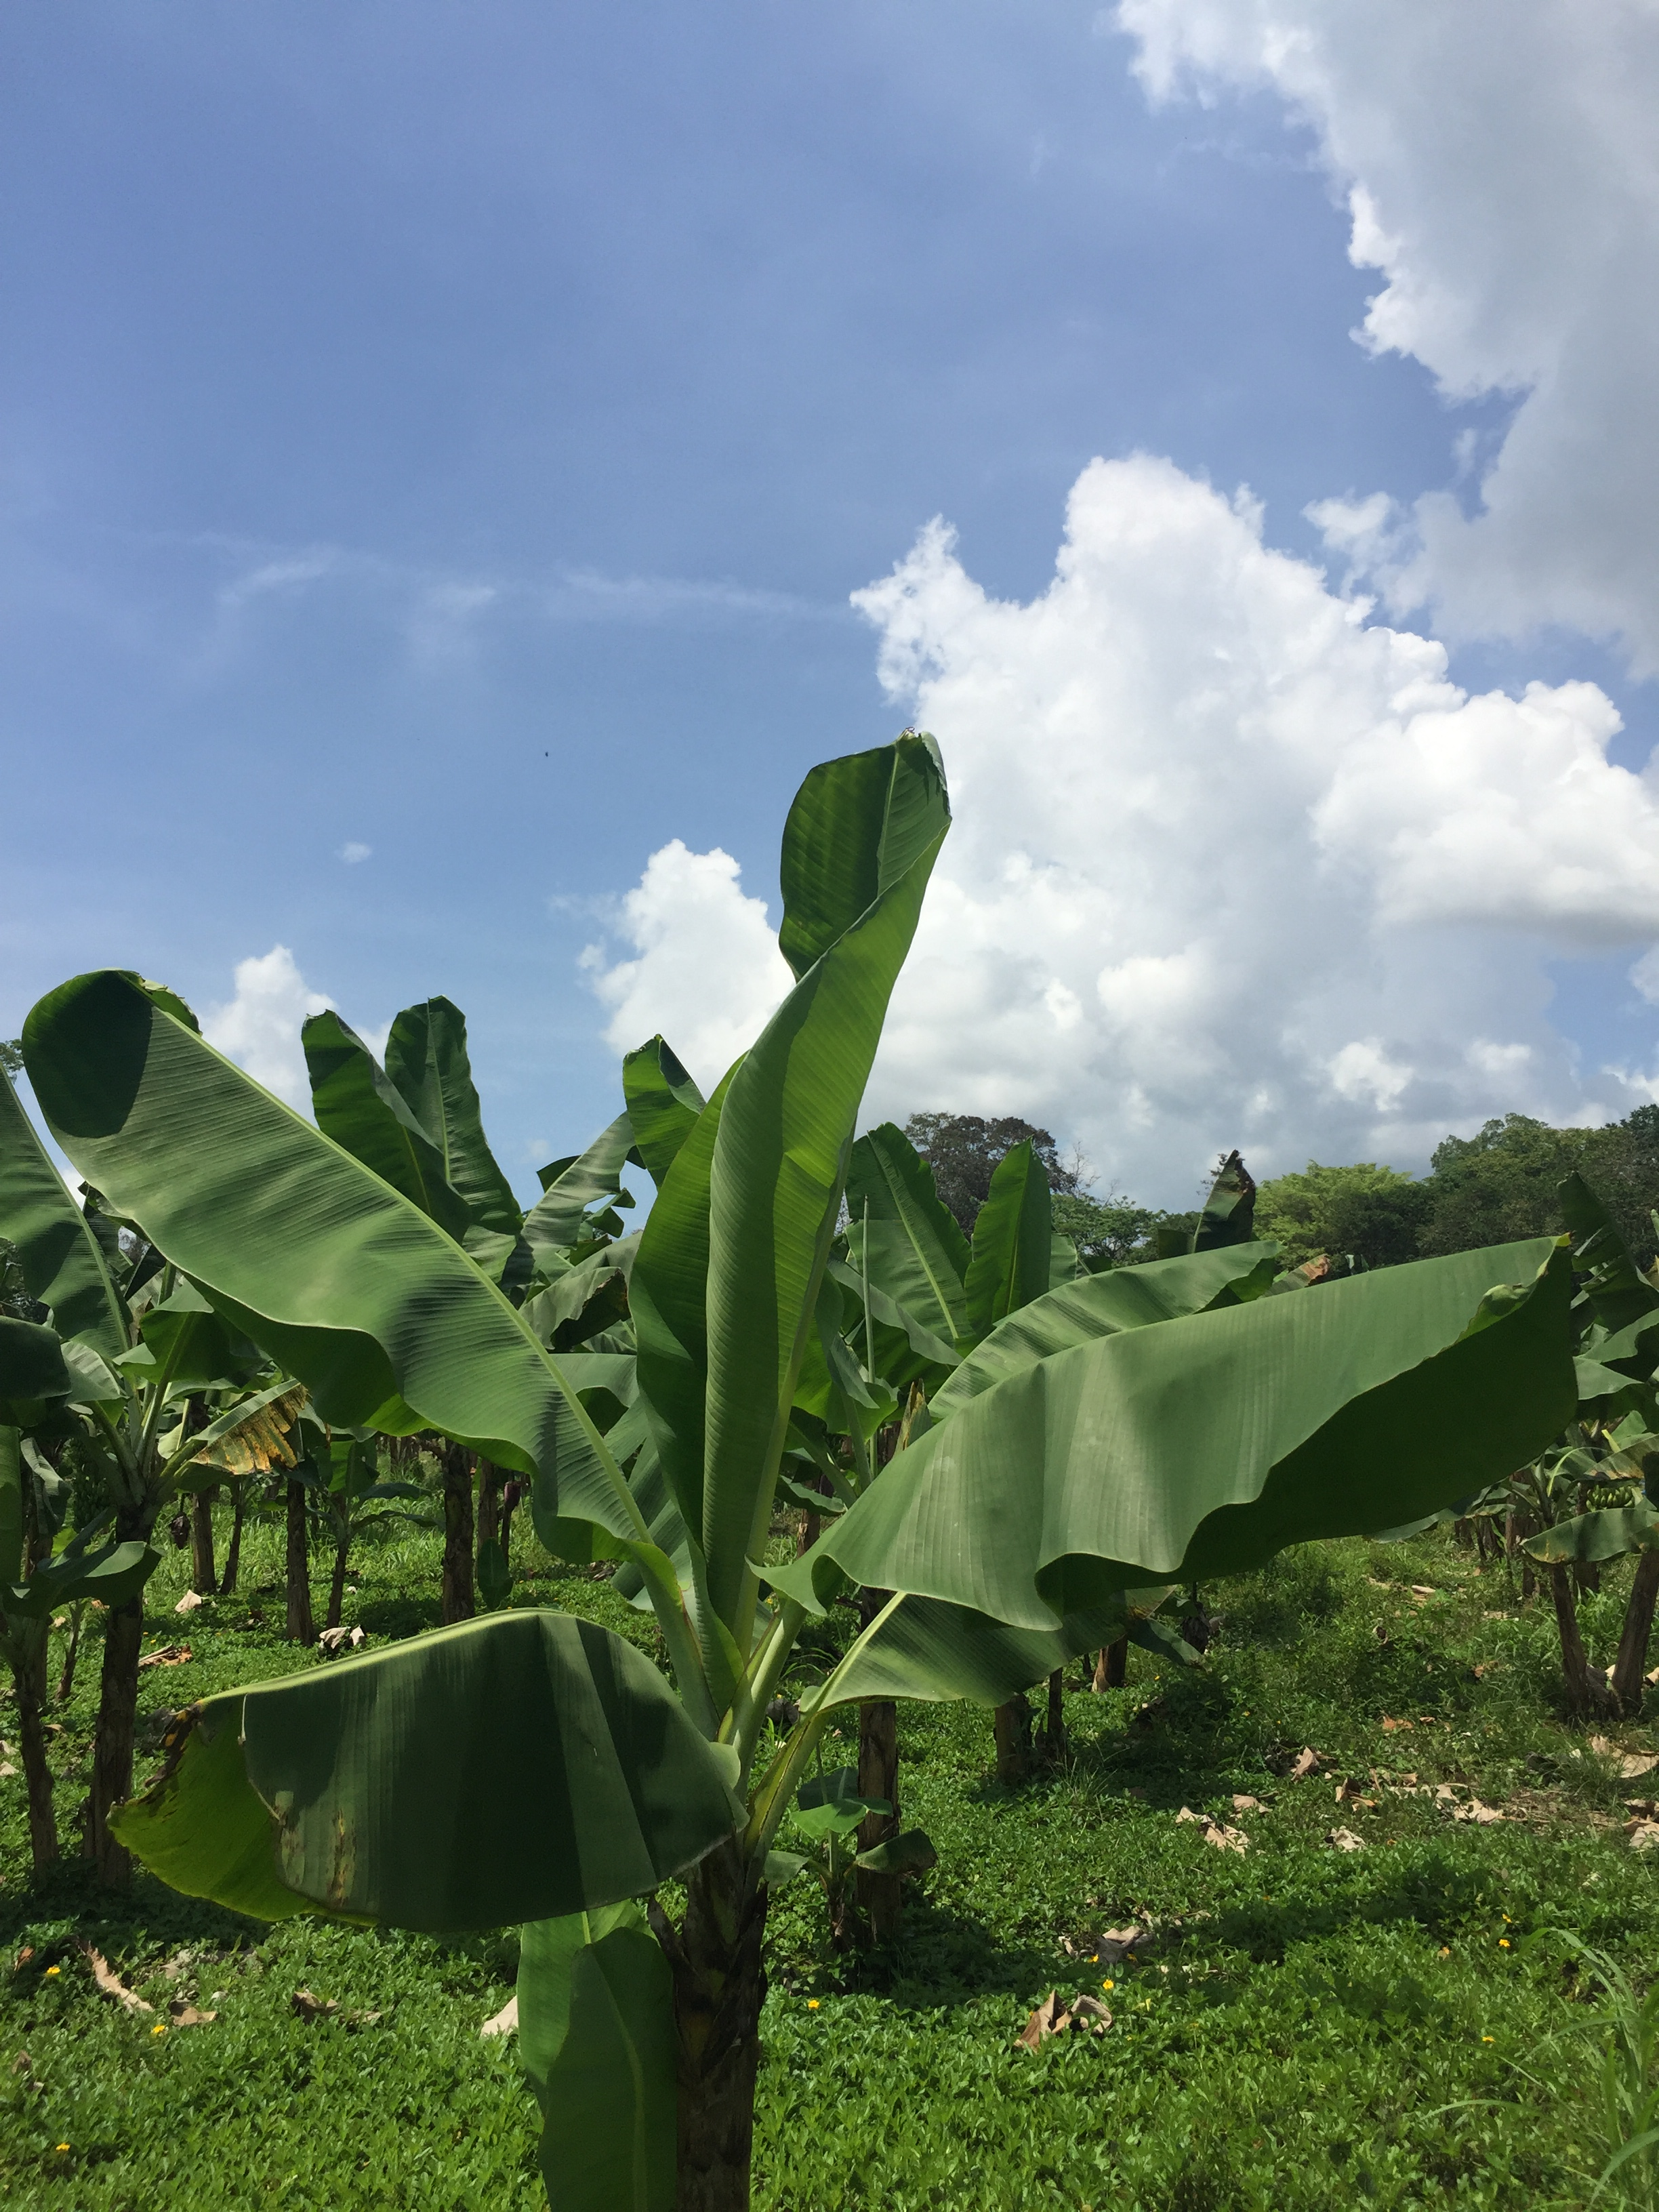candleleafs: (863, 1193, 877, 1477)
